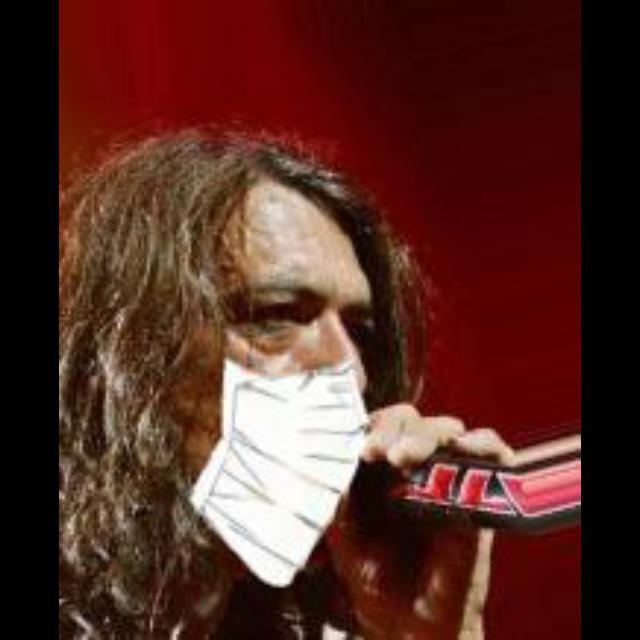suspicion: (148, 135, 498, 531)
